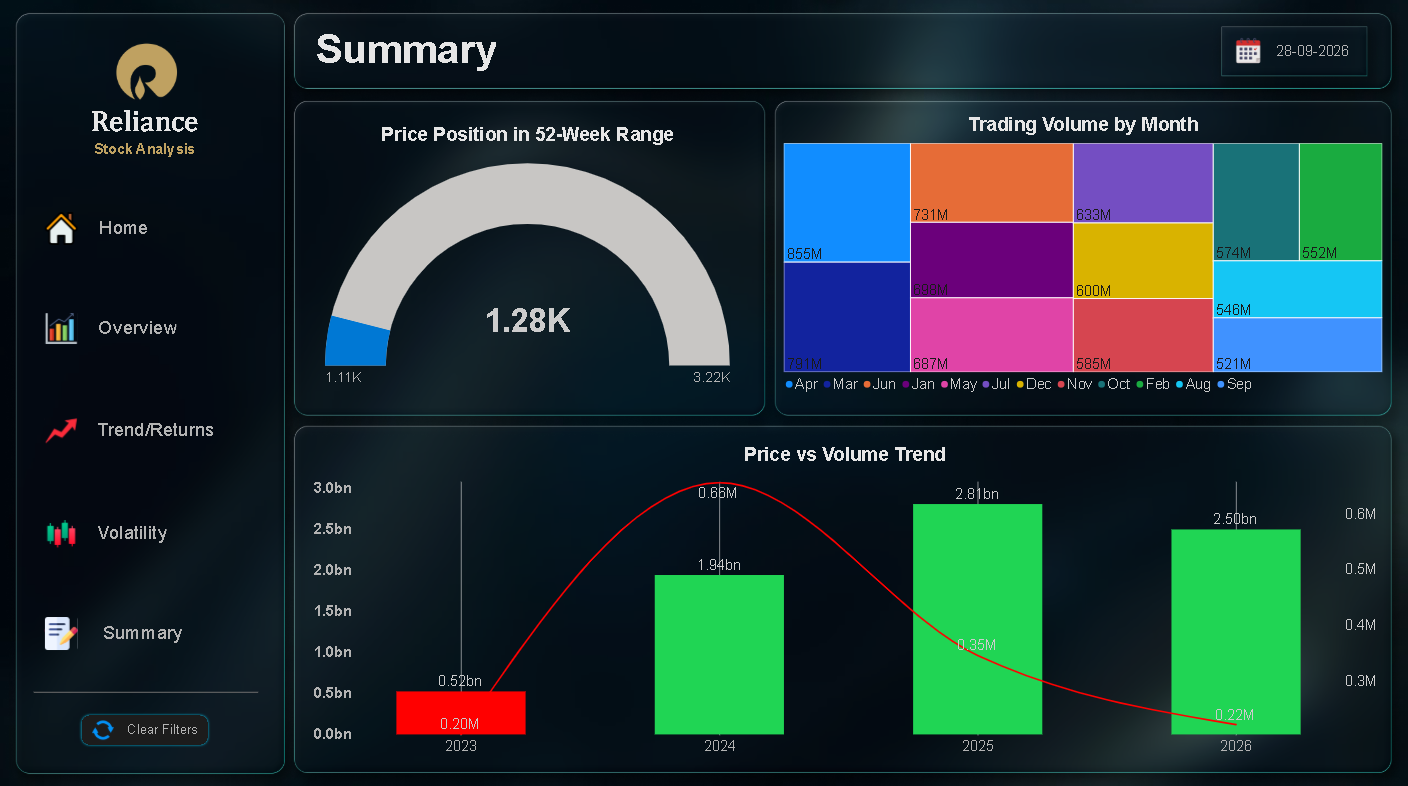

The dashboard page shown, as its layout file describes it:
{"tool":"powerbi","page":{"name":" Summary","canvas":[2560,1440],"ordinal":4},"visuals":[{"type":"image","box":[2246,69,48,48],"z":0,"group":"g1"},{"type":"textbox","box":[164.8,193.9,200,62.1],"z":0,"group":"g4"},{"type":"gauge","title":"Price Position in 52-Week Range","fields":{"MaxValue":["Stock project row data.Max Gauge Value"],"MinValue":["Stock project row data.Min Gauge Value"],"Y":["Stock project row data.Current Price Gauge"]},"box":[576,208,768,528],"z":0},{"type":"textbox","box":[2320,79,144,32],"z":1000,"group":"g1"},{"type":"treemap","title":"Trading Volume by Month","fields":{"Group":["Stock project row data.Month"],"Values":["Sum(Stock project row data.VOLUME)"]},"box":[1408,192,1120,544],"z":1000},{"type":"image","box":[204.8,64,120,131.9],"z":2000,"group":"g4"},{"type":"textbox","box":[168.8,254,192,32],"z":2000,"group":"g5"},{"type":"lineStackedColumnComboChart","title":"Price vs Volume Trend","fields":{"Category":["Stock project row data.DATE.Variation.Date Hierarchy.Year","Stock project row data.DATE.Variation.Date Hierarchy.Quarter","Stock project row data.DATE.Variation.Date Hierarchy.Month","Stock project row data.DATE.Variation.Date Hierarchy.Day"],"Y":["Sum(Stock project row data.VOLUME)"],"Y2":["Sum(Stock project row data.CLOSE)"]},"box":[552,792,1968,600],"z":2000},{"type":"group","id":"g1","title":"Group 1","box":[2246,69,218,48],"z":3000},{"type":"textbox","box":[576,48,888,120],"z":4000},{"type":"group","id":"g2","title":"Group 5","box":[60.8,64,408,1232],"z":5000},{"type":"actionButton","box":[144,1296,240,64],"z":6000},{"type":"actionButton","box":[60.8,360,408,112],"z":10000,"group":"g3"},{"type":"group","id":"g3","title":"Group 1","box":[60.8,360,408,936],"z":11000,"group":"g2"},{"type":"actionButton","box":[60.8,541.9,408,112],"z":11000,"group":"g3"},{"type":"actionButton","box":[60.8,913.6,408,112],"z":12000,"group":"g3"},{"type":"group","id":"g4","title":"Group 3","box":[164.8,64,200,192],"z":13000,"group":"g5"},{"type":"actionButton","box":[60.8,723.8,408,120],"z":13000,"group":"g3"},{"type":"group","id":"g5","title":"Group 4","box":[164.8,64,200,222],"z":13001,"group":"g2"},{"type":"actionButton","box":[60.8,1095.5,408,112],"z":14000,"group":"g3"},{"type":"shape","box":[60.8,1224,408,72],"z":15000,"group":"g3"}]}

Visuals, with their boxes in screenshot pixels (x1, y1, x2, y2), scaled from the page's 2560x1440 canvas onto the 1408x786 screenshot:
image: 1235:38:1262:64
textbox: 91:106:201:140
"Price Position in 52-Week Range" gauge: 317:114:739:402
textbox: 1276:43:1355:61
"Trading Volume by Month" treemap: 774:105:1390:402
image: 113:35:179:107
textbox: 93:139:198:156
"Price vs Volume Trend" lineStackedColumnComboChart: 304:432:1386:760
"Group 1" group: 1235:38:1355:64
textbox: 317:26:805:92
"Group 5" group: 33:35:258:707
actionButton: 79:707:211:742
actionButton: 33:196:258:258
"Group 1" group: 33:196:258:707
actionButton: 33:296:258:357
actionButton: 33:499:258:560
"Group 3" group: 91:35:201:140
actionButton: 33:395:258:461
"Group 4" group: 91:35:201:156
actionButton: 33:598:258:659
shape: 33:668:258:707
